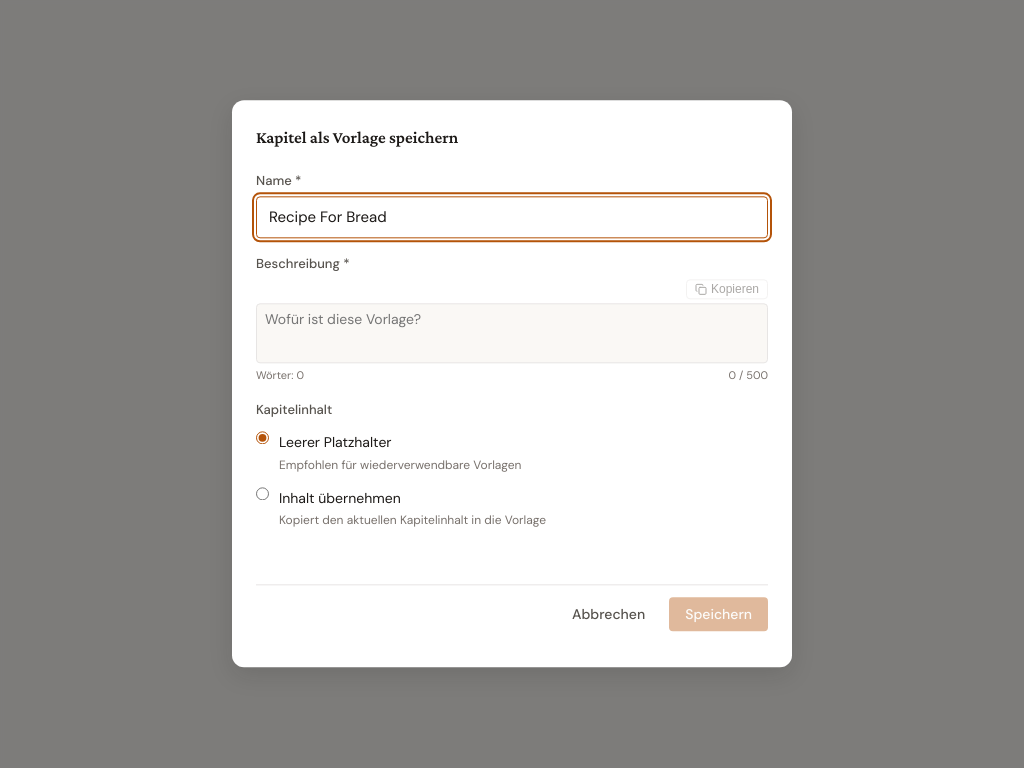
Scenario: SaveAsChapterTemplateModal › submit is disabled until name and description are filled
expect the button with test id "save-chapter-template-submit" is disabled: met, box [669,598,768,632]
Type "Reusable recipe layout" into the text box with test id "save-chapter-template-description" at (512, 333), box [256,303,768,363]
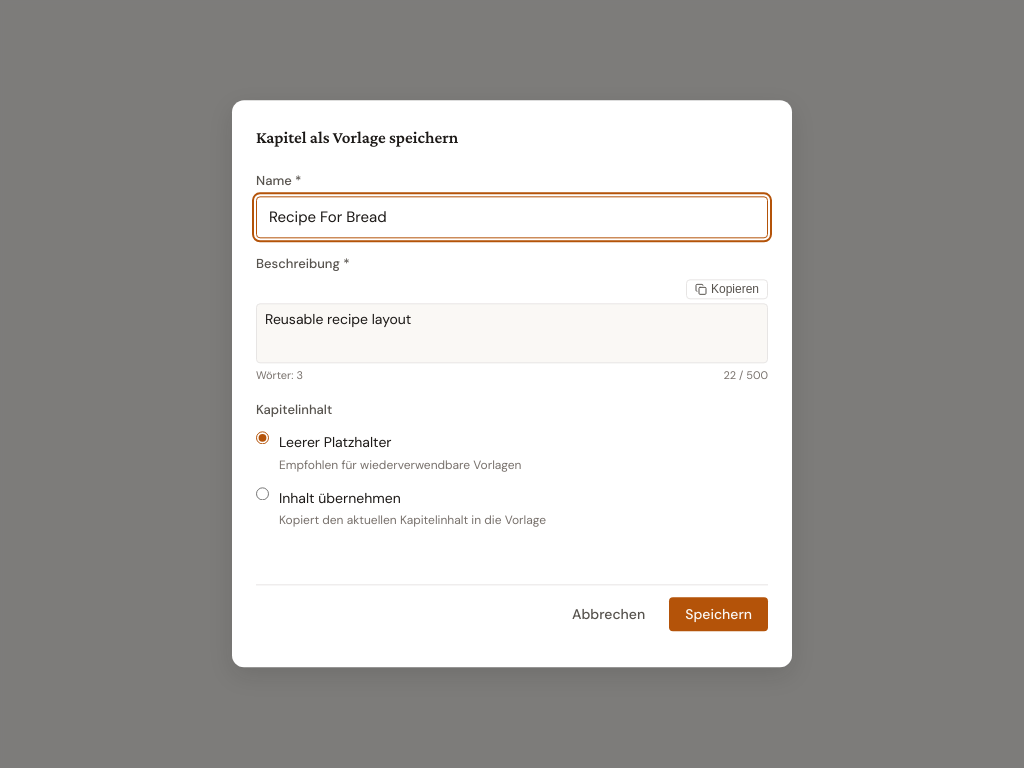
expect the button with test id "save-chapter-template-submit" is enabled: met, box [669,598,768,632]
